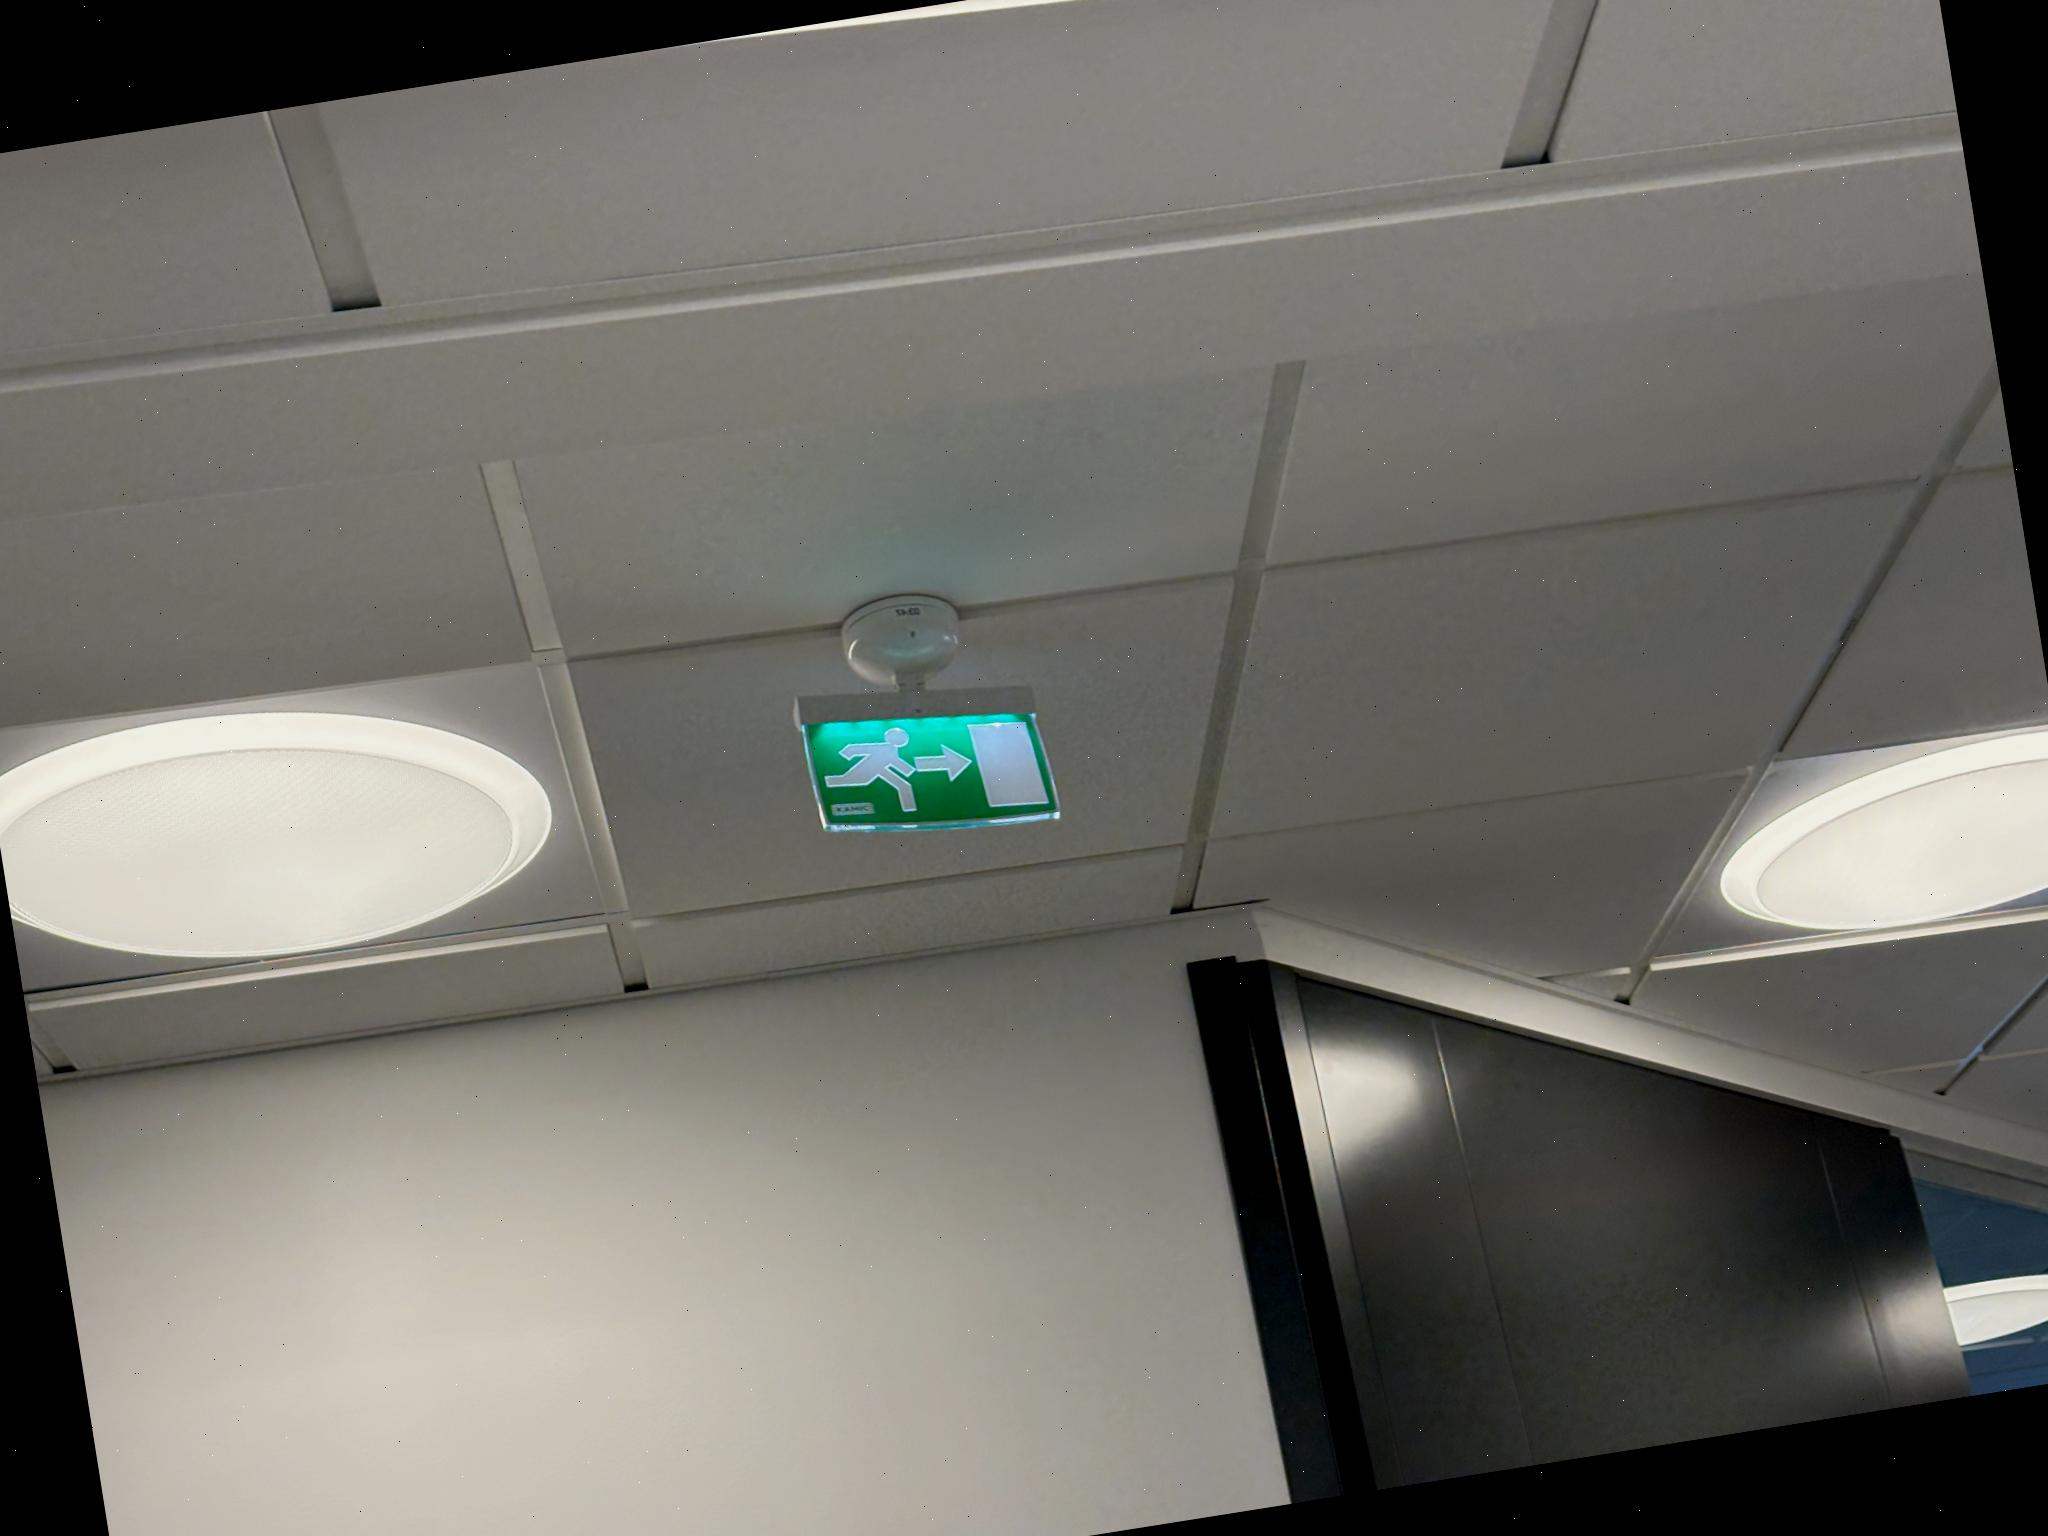exit_sign: (801, 694, 1059, 845)
